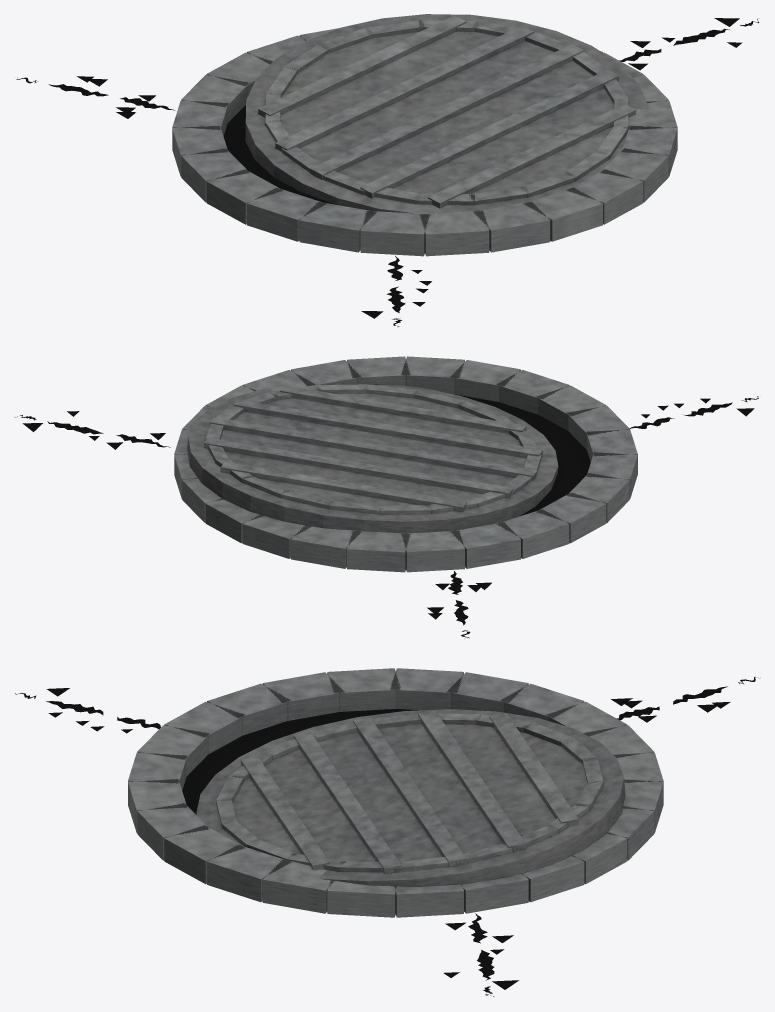
The model's file is trap_city_heavy.glb.
The picture shows the model from 3 angles, top to bottom: view 1: azimuth 30°, elevation 25°; view 2: azimuth 150°, elevation 25°; view 3: azimuth 270°, elevation 25°; orthographic projection. The views are drawn at different scales.
Parts seen in each view (by area): view 1: trap_city_heavy.001; view 2: trap_city_heavy.001; view 3: trap_city_heavy.001.
Part boxes in pixels (x1,y1,x2,y2): trap_city_heavy.001: [16, 14, 759, 326]; trap_city_heavy.001: [15, 356, 758, 638]; trap_city_heavy.001: [15, 668, 755, 996].
Bounding box in the file's own units: 1.49 × 0.1264 × 1.46.
3 materials, 3 textured.
